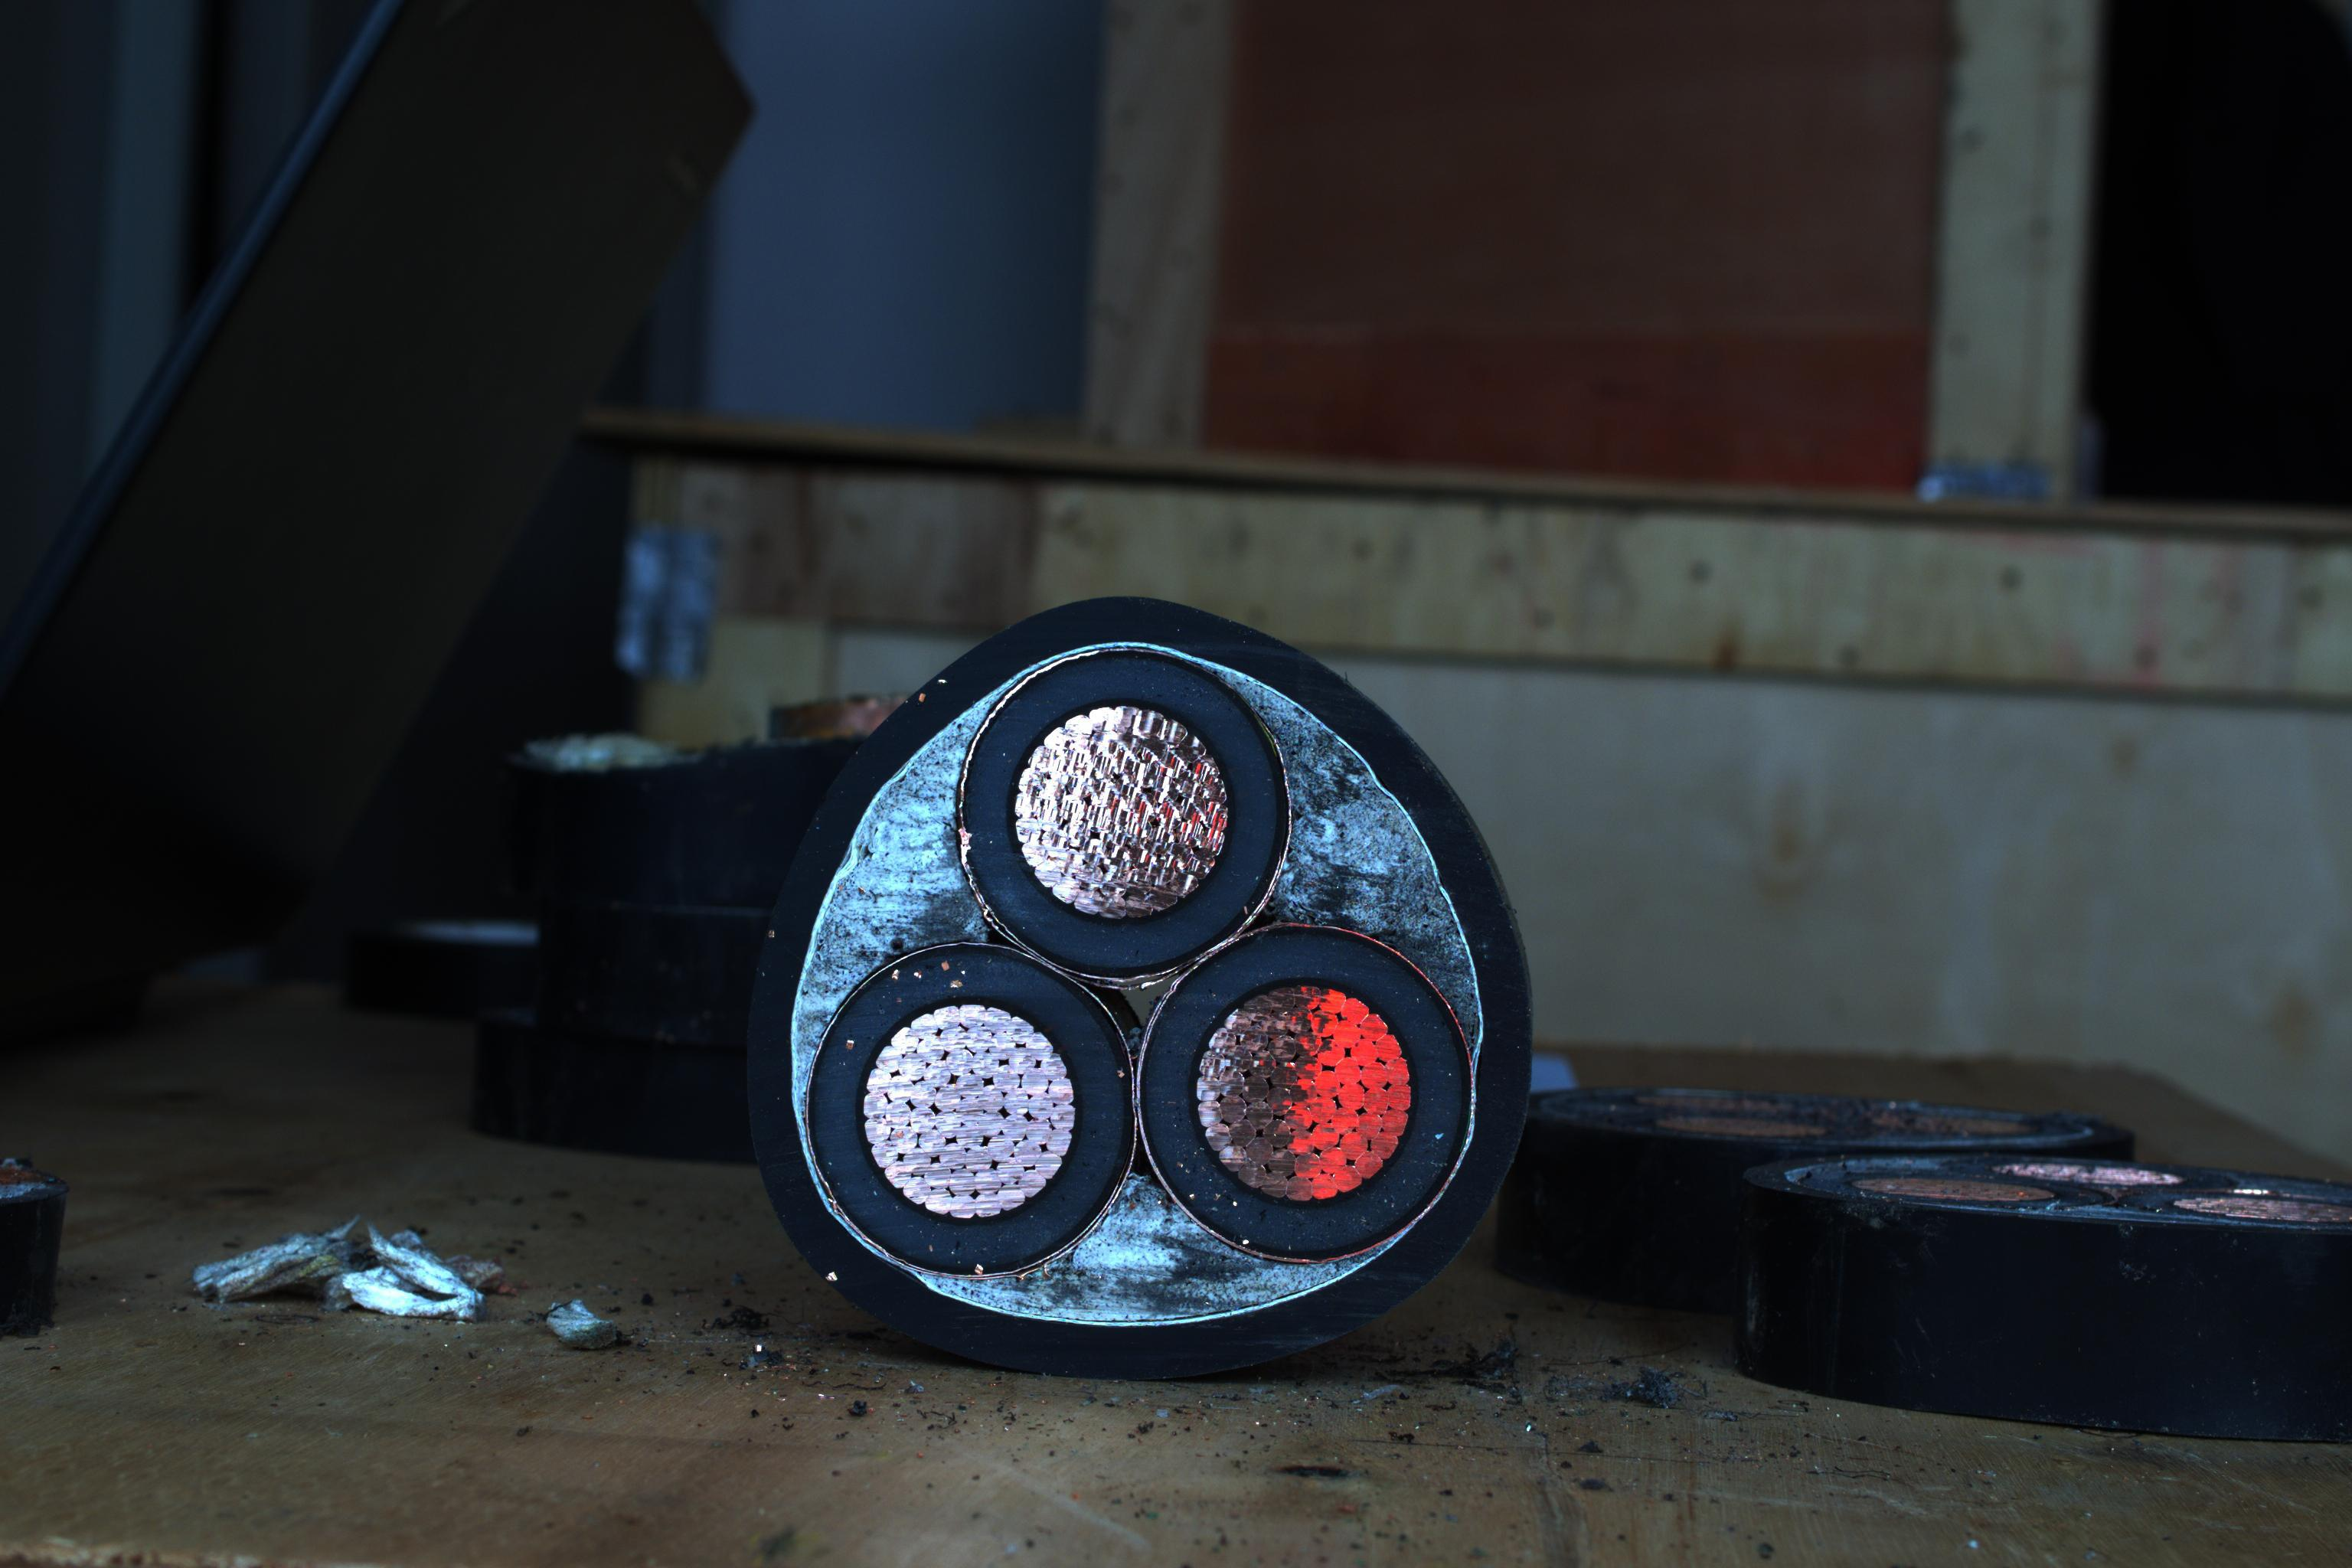ZA_YJV_8.7_10kV_3x400: (737, 588, 1528, 1340)
